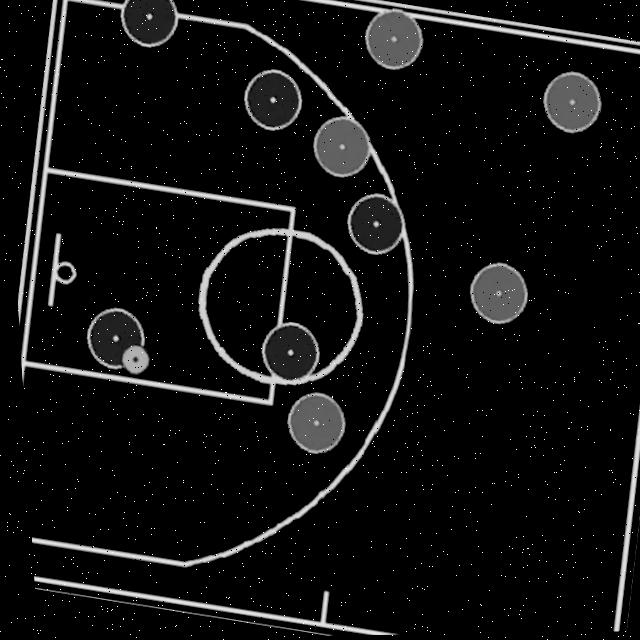Basketball: (116, 345, 146, 376)
Team_A: (343, 194, 401, 256), (256, 322, 313, 385), (82, 308, 140, 369), (241, 70, 299, 131), (118, 0, 177, 47)
Team_B: (310, 117, 369, 178), (540, 73, 599, 134), (281, 392, 339, 454), (465, 263, 523, 325), (363, 10, 421, 70)
